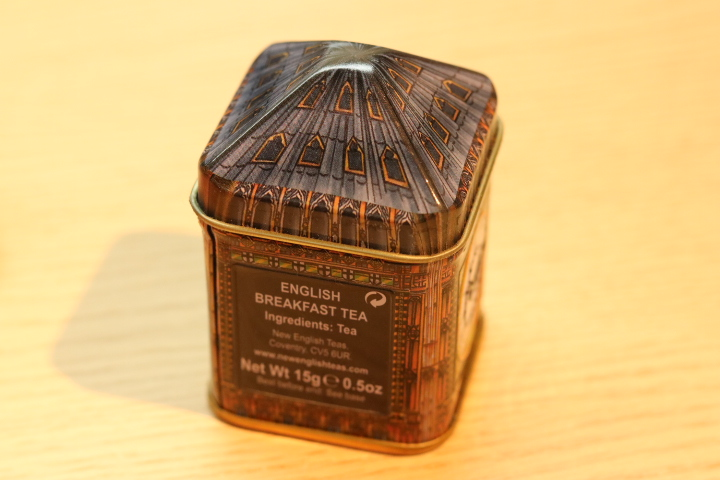Big Ben: (173, 19, 519, 466)
